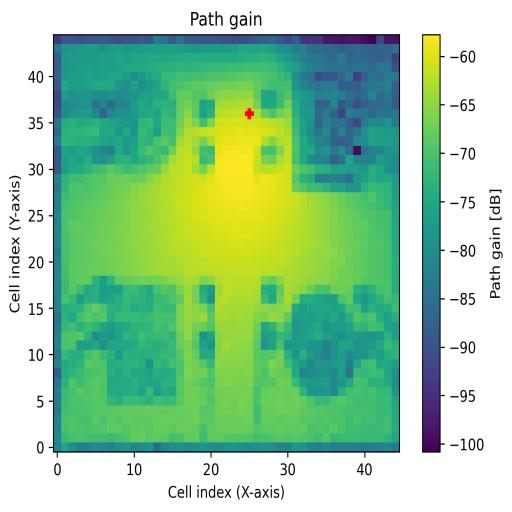Concrete: (290, 71, 368, 192)
Glass: (92, 71, 176, 174)
Metal: (285, 294, 377, 397)
Wood: (107, 286, 176, 406)
